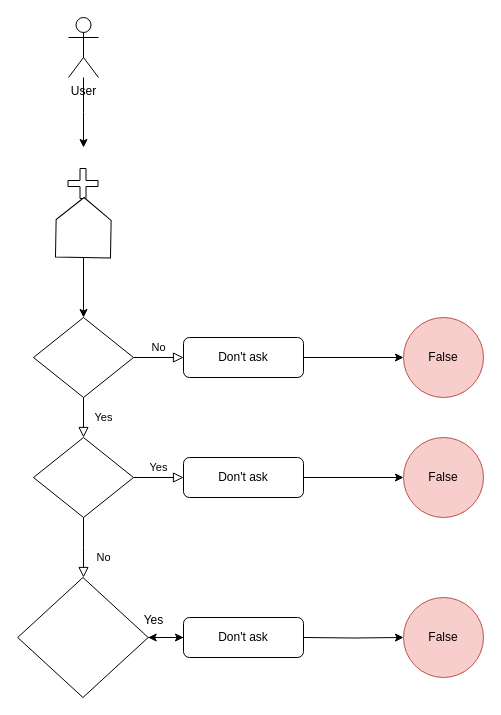
Some shapes in this 501 by 715 pixel diagram are drawn without their labels. Each missing label, with the centre of its shape:
"Diocese is partner?" belongs at point (83, 357).
"User follows diocese?" belongs at point (83, 477).
"User follows other parishes of the diocese?" belongs at point (82, 637).
